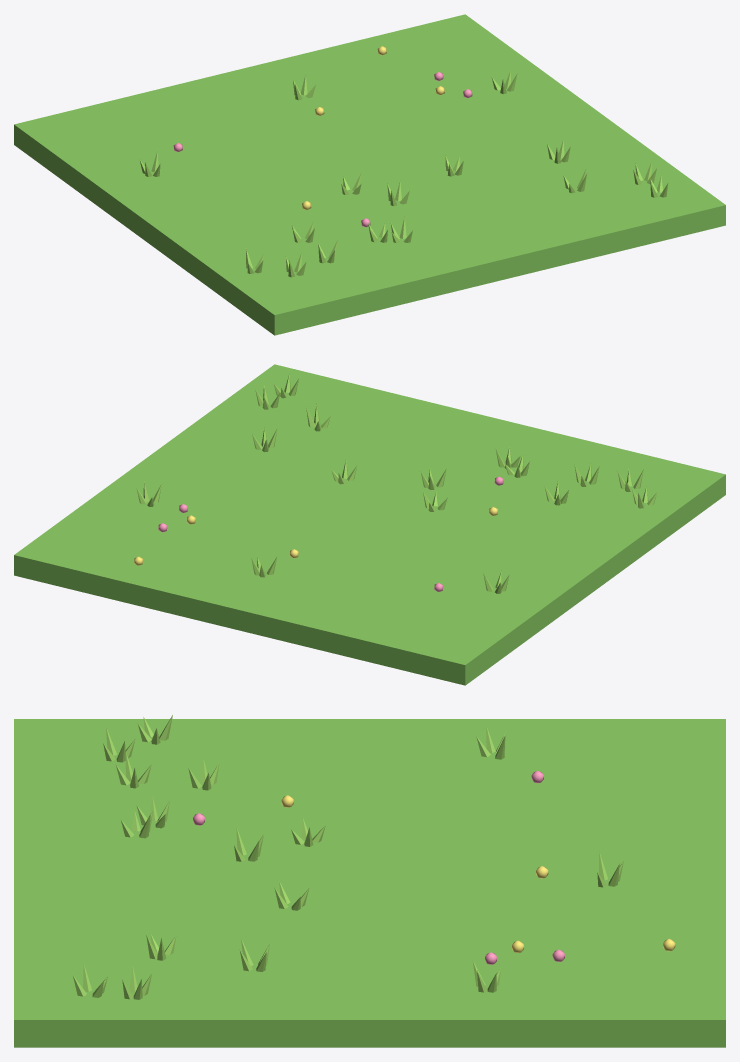
The model's file is Grass_Tile.fbx.
The picture shows the model from 3 angles, top to bottom: view 1: azimuth 30°, elevation 25°; view 2: azimuth 150°, elevation 25°; view 3: azimuth 270°, elevation 25°; orthographic projection. The views are drawn at different scales.
Parts seen in each view (by area): view 1: Grass_Tile; view 2: Grass_Tile; view 3: Grass_Tile.
Part boxes in pixels (x1,y1,x2,y2): Grass_Tile: (14, 14, 725, 335); Grass_Tile: (14, 364, 725, 685); Grass_Tile: (14, 715, 725, 1047).
Size of the model in its own units: 30 by 2.5 by 30.
